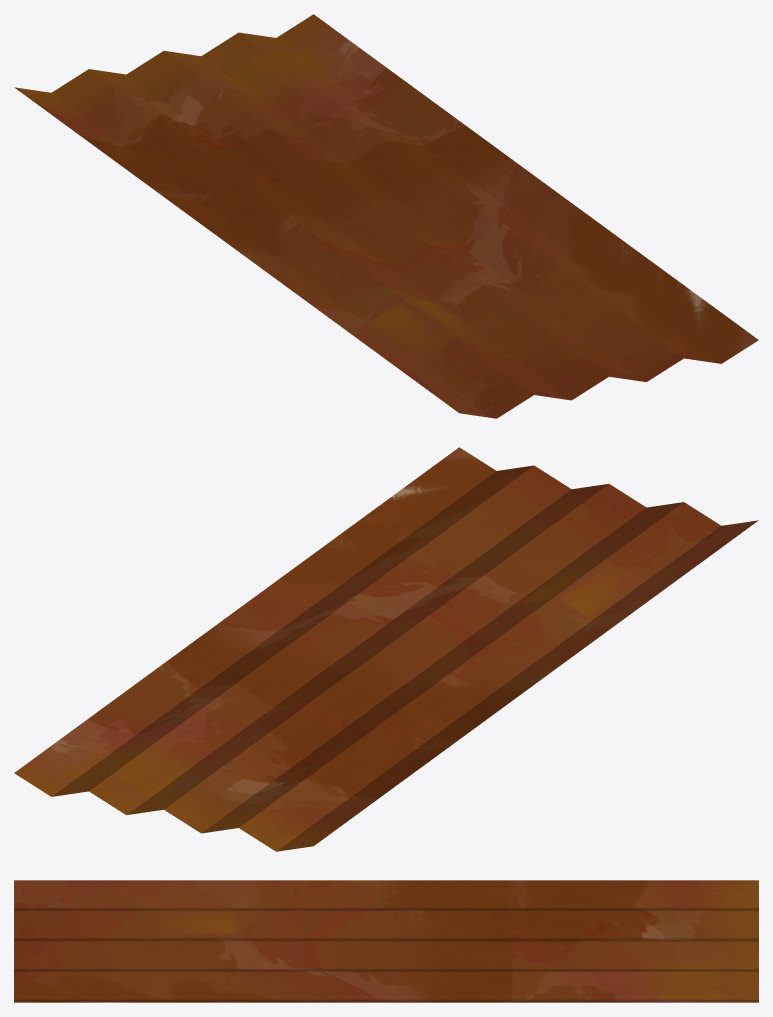
Rendered from plank.fbx.
3 views of the same model, one above another, from view 1: azimuth 30°, elevation 25°; view 2: azimuth 150°, elevation 25°; view 3: azimuth 270°, elevation 25° (orthographic). The views are drawn at different scales.
Parts seen in each view (by area): view 1: Plane; view 2: Plane; view 3: Plane.
Part boxes in pixels (<box>): Plane: <box>14,14,758,418</box>; Plane: <box>14,447,758,851</box>; Plane: <box>14,880,758,1002</box>.
Size of the model in its own units: 367 by 6.66 by 143.
Materials: 1 (1 with a texture image).
